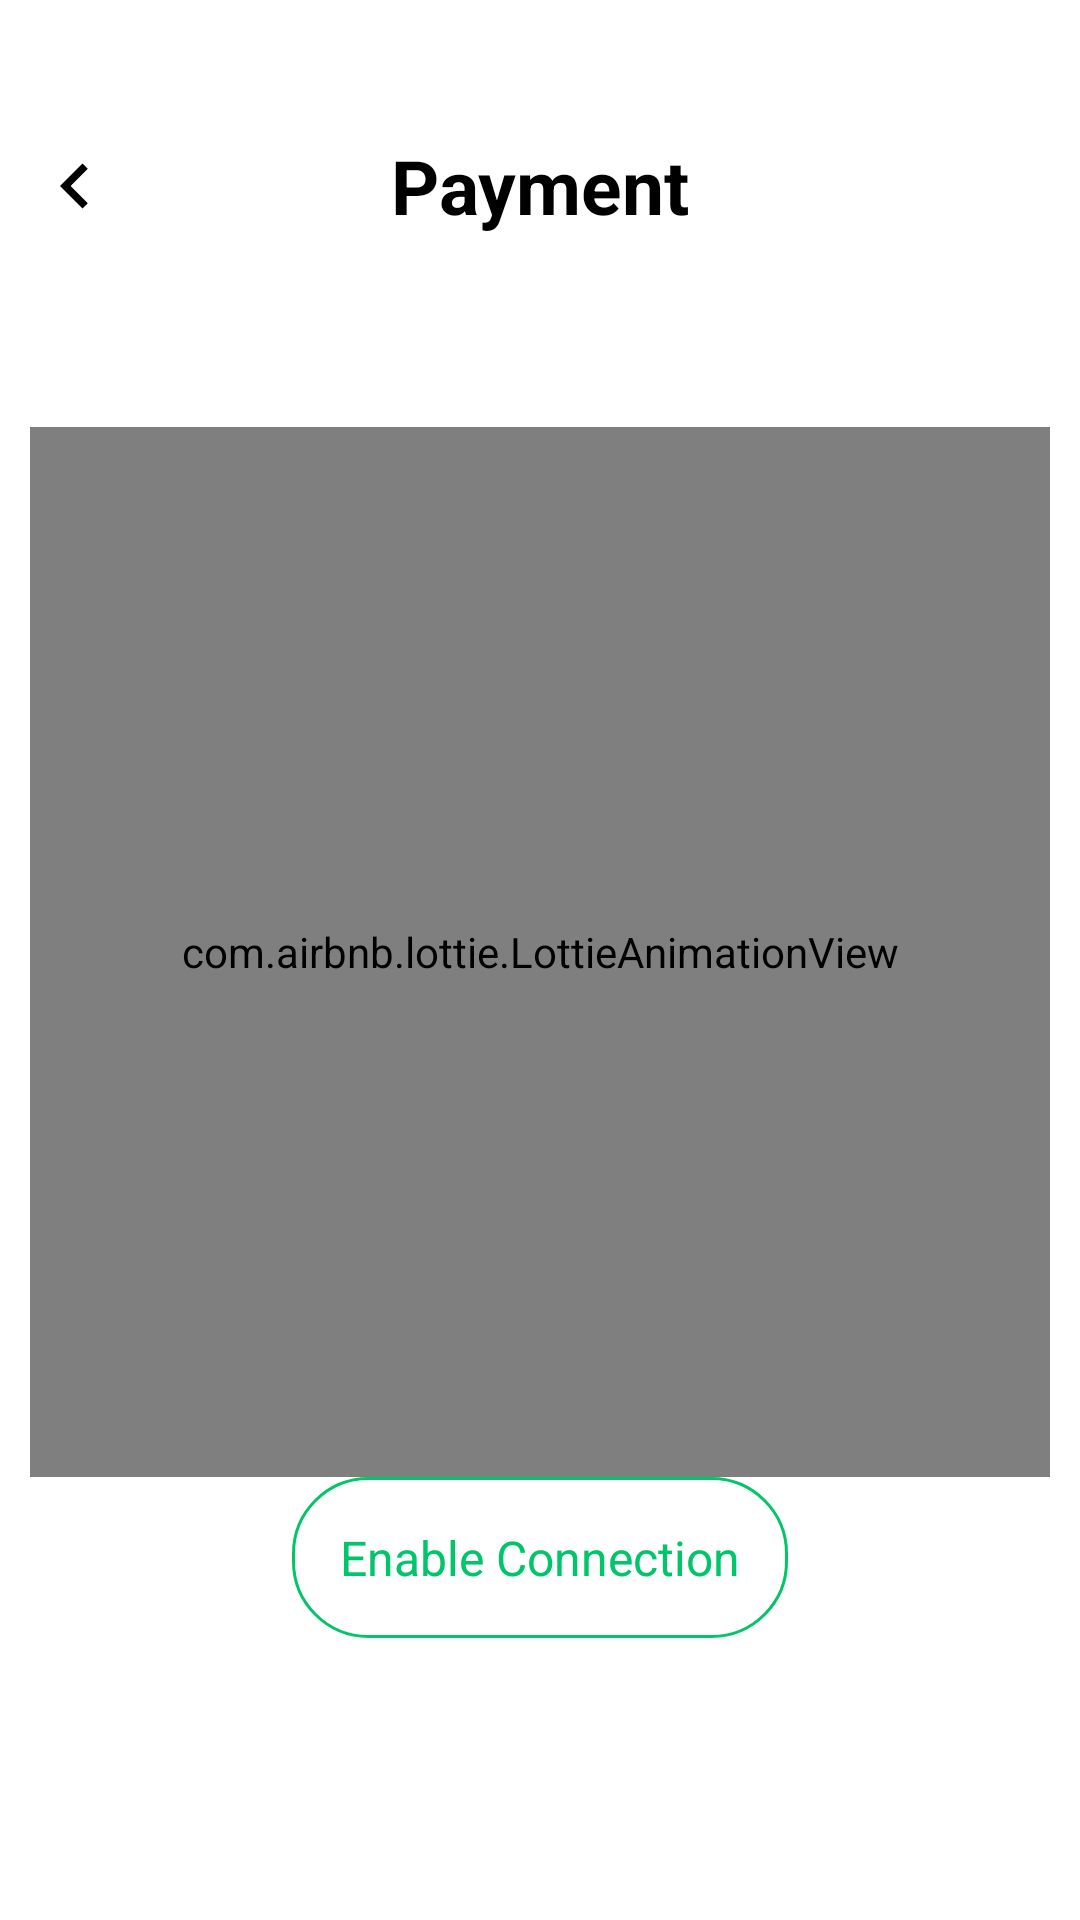

Icons on this 1080x1920 Android screen, each with its box as (x1, y1, x2, y2):
Go back: (60, 163, 88, 209)
